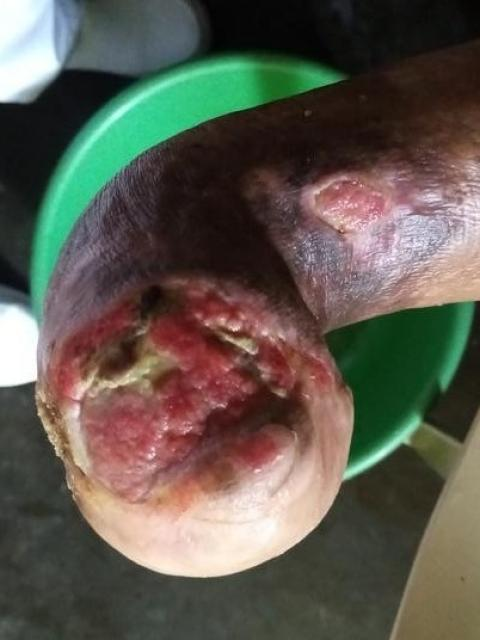wound: (33, 275, 341, 524), (299, 170, 386, 239)
